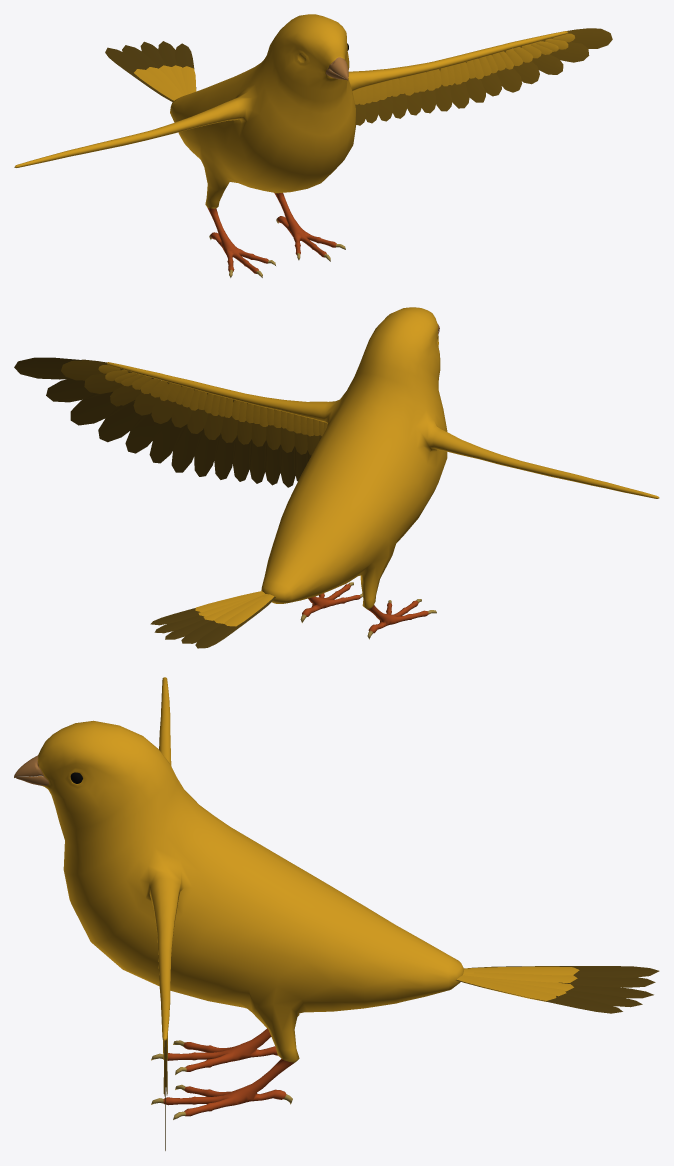
The model's file is canary.obj.
3 renders of one model, top to bottom at view 1: azimuth 30°, elevation 25°; view 2: azimuth 150°, elevation 25°; view 3: azimuth 270°, elevation 25°, orthographic. The views are drawn at different scales.
Parts seen in each view (by area): view 1: canary, feather_flight_secondary_016, feather_tail_primary_005, feather_flight_secondary_015, feather_flight_secondary_014, feather_tail_secondary_005, feather_flight_secondary_012, feather_flight_secondary_013, feather_flight_secondary_009, feather_flight_secondary_010; view 2: canary, feather_flight_primary_014, feather_flight_primary_013, feather_flight_primary_016, feather_flight_primary_010, feather_flight_primary_011, feather_flight_primary_012, feather_flight_primary_015, feather_flight_primary_009, feather_flight_primary_008, feather_flight_secondary_032, feather_flight_primary_007 (+5 smaller); view 3: canary, feather_tail_primary_005, feather_tail_secondary_005, feather_tail_primary_001, feather_tail_primary_004, feather_tail_secondary_001, feather_tail_secondary_004.
Boxes of the visible parts, <box> form: canary: <box>14,14,568,277</box>; feather_flight_secondary_016: <box>551,29,612,48</box>; feather_tail_primary_005: <box>105,47,173,101</box>; feather_flight_secondary_015: <box>541,40,589,62</box>; feather_flight_secondary_014: <box>520,46,563,74</box>; feather_tail_secondary_005: <box>134,69,179,100</box>; feather_flight_secondary_012: <box>491,54,522,92</box>; feather_flight_secondary_013: <box>504,50,539,84</box>; feather_flight_secondary_009: <box>449,82,469,108</box>; feather_flight_secondary_010: <box>465,62,486,102</box>; canary: <box>106,307,659,639</box>; feather_flight_primary_014: <box>70,391,135,425</box>; feather_flight_primary_013: <box>98,402,147,442</box>; feather_flight_primary_016: <box>14,357,123,379</box>; feather_flight_primary_010: <box>171,424,203,472</box>; feather_flight_primary_011: <box>149,417,186,463</box>; feather_flight_primary_012: <box>125,412,166,453</box>; feather_flight_primary_015: <box>46,378,105,402</box>; feather_flight_primary_009: <box>194,429,220,476</box>; feather_flight_primary_008: <box>214,433,236,479</box>; feather_flight_secondary_032: <box>61,360,122,380</box>; feather_flight_primary_007: <box>232,435,252,481</box>; canary: <box>14,677,464,1119</box>; feather_tail_primary_005: <box>464,966,659,977</box>; feather_tail_secondary_005: <box>463,966,579,975</box>; feather_tail_primary_001: <box>456,979,622,1013</box>; feather_tail_primary_004: <box>559,976,655,987</box>; feather_tail_secondary_001: <box>456,976,556,1000</box>; feather_tail_secondary_004: <box>463,972,577,982</box>.
Size of the model in its own units: 0.2156 by 0.0851 by 0.1391.
